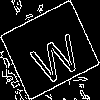W: (25, 24, 85, 87)
